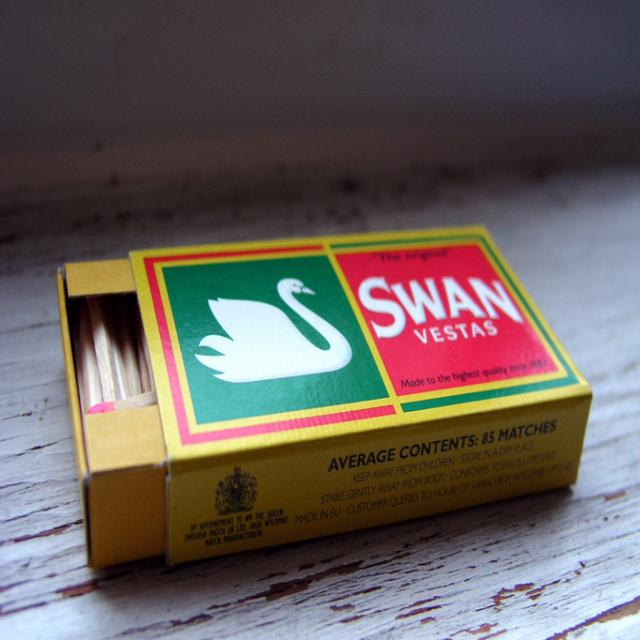Box: (55, 222, 592, 568)
